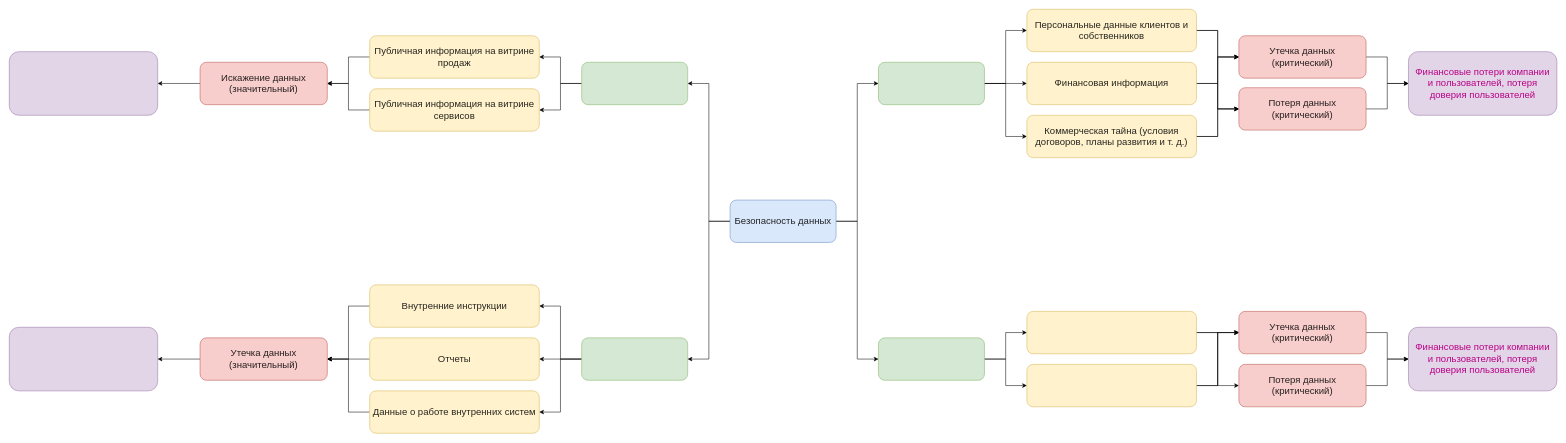
Some shapes in this 1566 by 443 pixel diagram are drawn without their labels. The shapes that lost their labels are listed below. From the top down, each one's centre as x and y in pixels, then its label:
At pixel 83 83: "Может ввести в заблуждение клиентов и нанести ущерб репутации".
At pixel 634 83: "Публичные данные".
At pixel 931 83: "Конфиденциальные данные".
At pixel 1111 332: "Платежные данные клиентов и собственников".
At pixel 83 359: "Утечка облегчит кибератаки".
At pixel 634 358: "Внутренние данные".
At pixel 931 358: "Секретные данные".
At pixel 1111 385: "Данные аутентификации".
